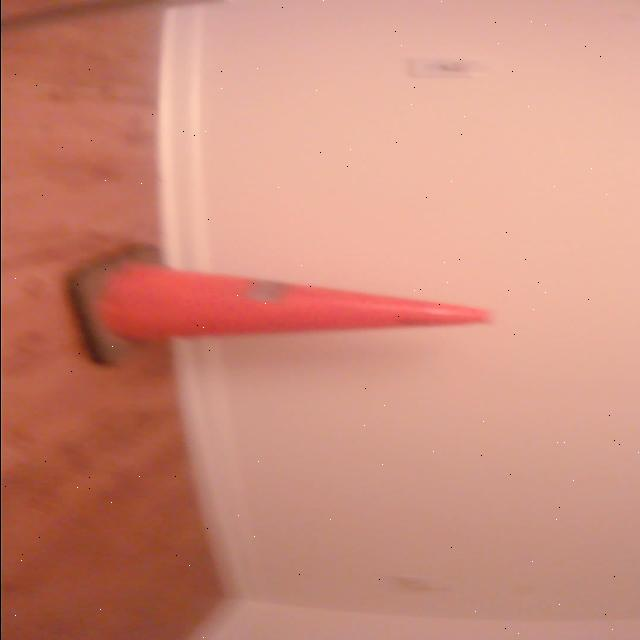traffic cone: (61, 239, 501, 375)
